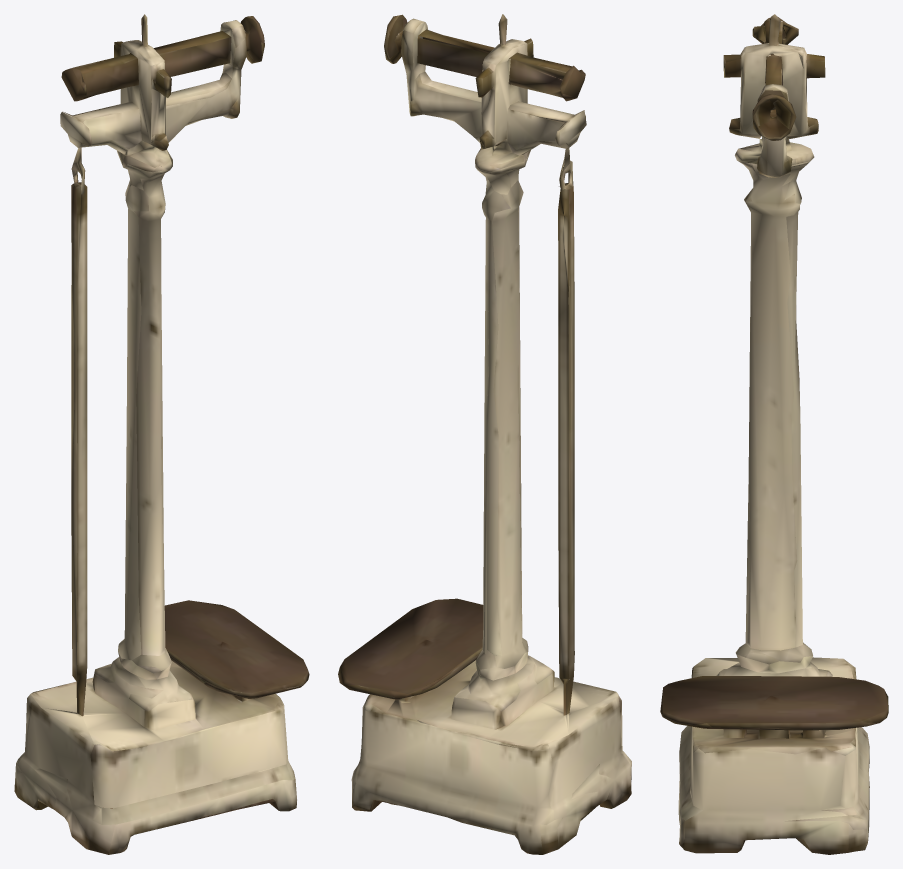
Rendered from balanza_columna.movil.glb.
3 renders of one model, left to right at view 1: azimuth 30°, elevation 25°; view 2: azimuth 150°, elevation 25°; view 3: azimuth 270°, elevation 25°, orthographic.
Visible parts, largest first — view 1: geometry_0; view 2: geometry_0; view 3: geometry_0.
Boxes of the visible parts, left/top/right/bottom form: geometry_0: left=14, top=14, right=309, bottom=854; geometry_0: left=338, top=14, right=631, bottom=854; geometry_0: left=660, top=14, right=888, bottom=854.
Size of the model in its own units: 0.5492 by 1.9 by 0.4988.
Materials: 1 (1 with a texture image).
